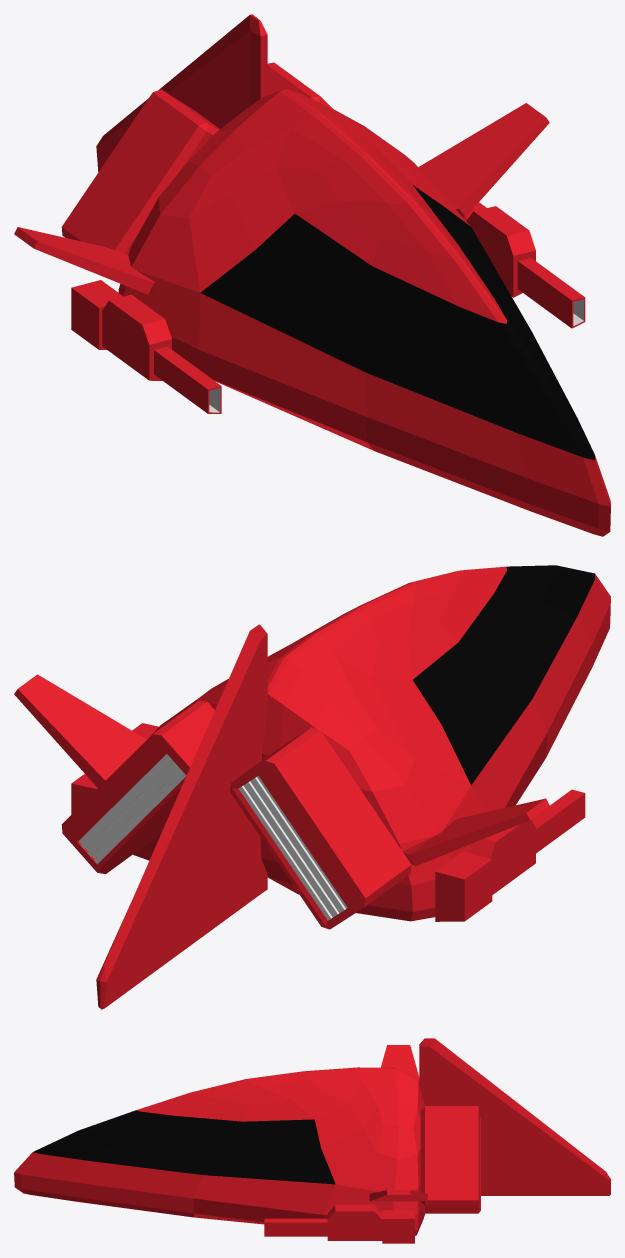
Rendered from ship_ThirdOrder.fbx.
3 renders of one model, top to bottom at view 1: azimuth 30°, elevation 25°; view 2: azimuth 150°, elevation 25°; view 3: azimuth 270°, elevation 25°, orthographic. The views are drawn at different scales.
Parts seen in each view (by area): view 1: Cube, Cube.002; view 2: Cube.002, Cube; view 3: Cube, Cube.002.
Part boxes in pixels (x1,y1,x2,y2): Cube: (118,89,610,536); Cube.002: (14,14,585,413); Cube.002: (14,624,585,1009); Cube: (133,565,610,921); Cube: (14,1067,424,1235); Cube.002: (264,1038,610,1243).
Bounding box in the file's own units: 557 × 279 × 956.
